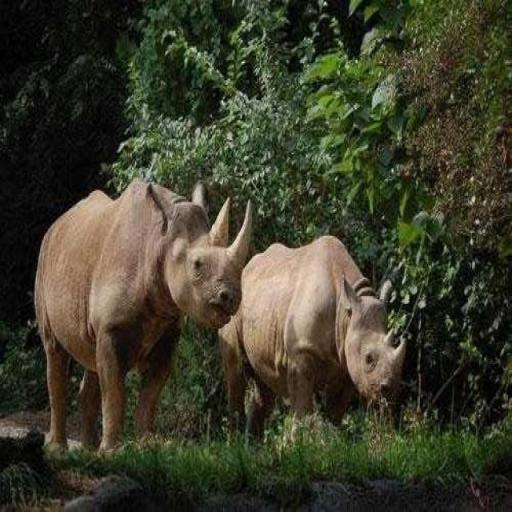Rhino: (33, 177, 253, 461), (217, 233, 407, 444)
